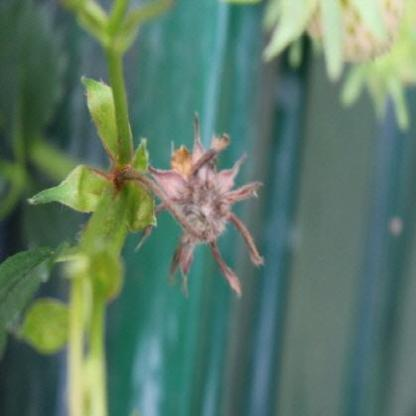Strawberry_Gray_Mold: (114, 111, 264, 298)
